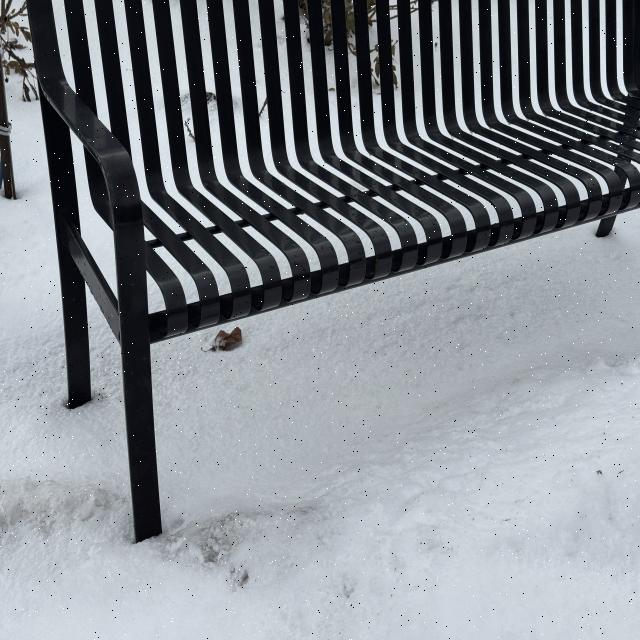Bench: (38, 2, 637, 539)
